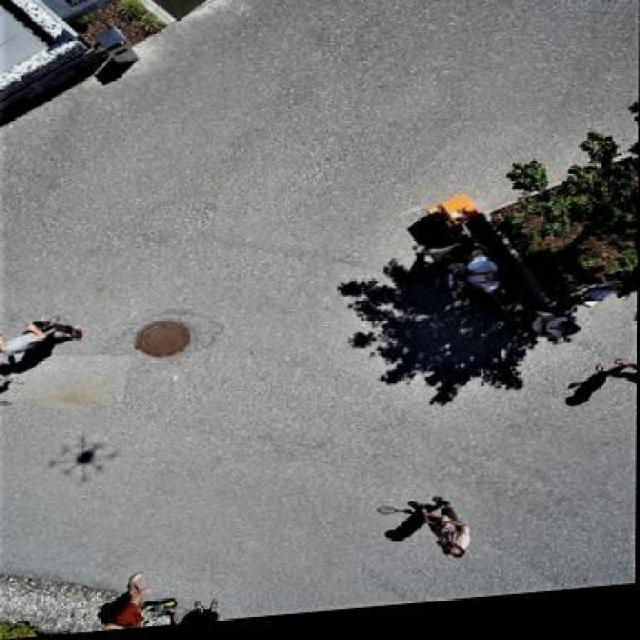Person: (413, 492, 478, 574), (0, 316, 72, 357), (456, 264, 509, 310)
